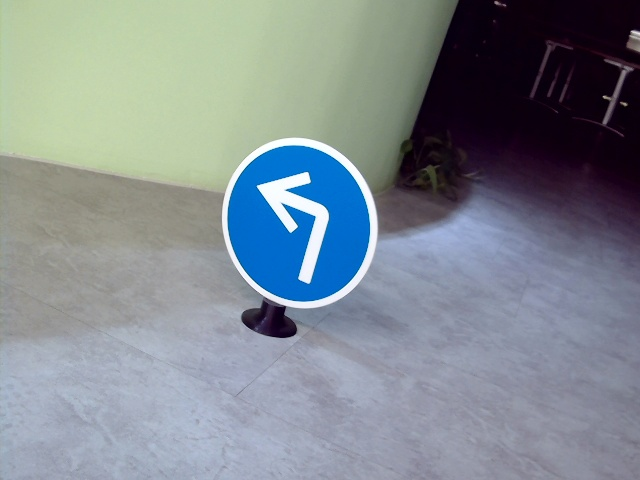turn_left: (256, 166, 338, 285)
